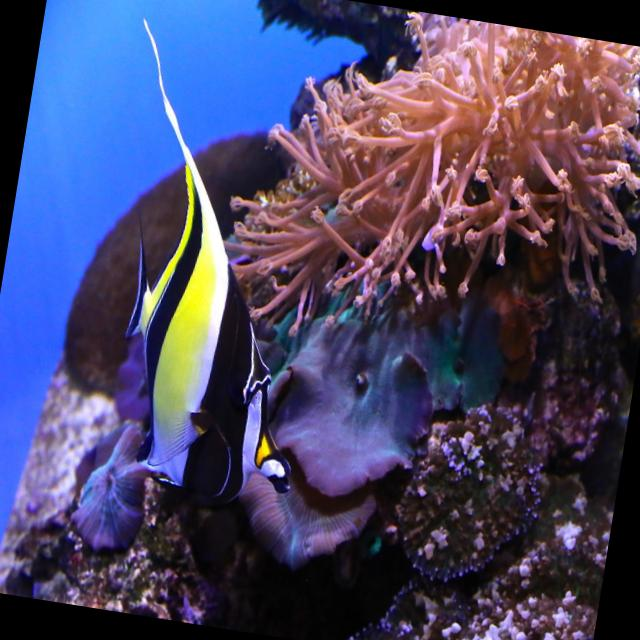MorishIdol: (57, 14, 360, 580)
